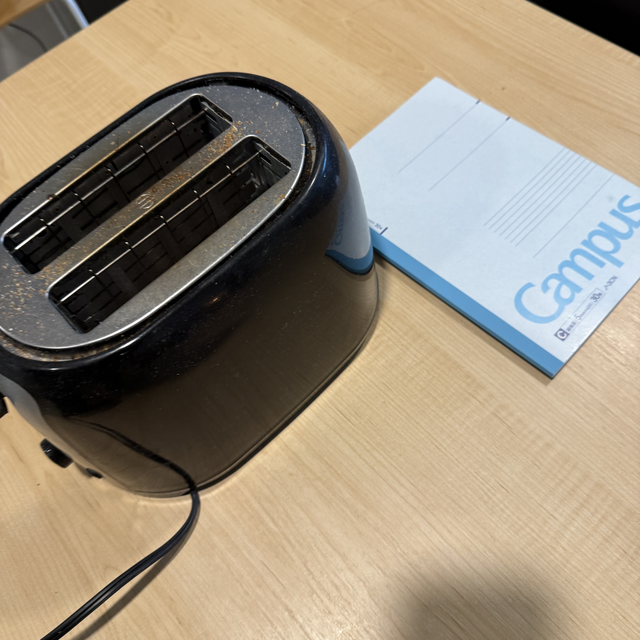Paper: (321, 75, 639, 375)
Toaster: (0, 82, 381, 501)
